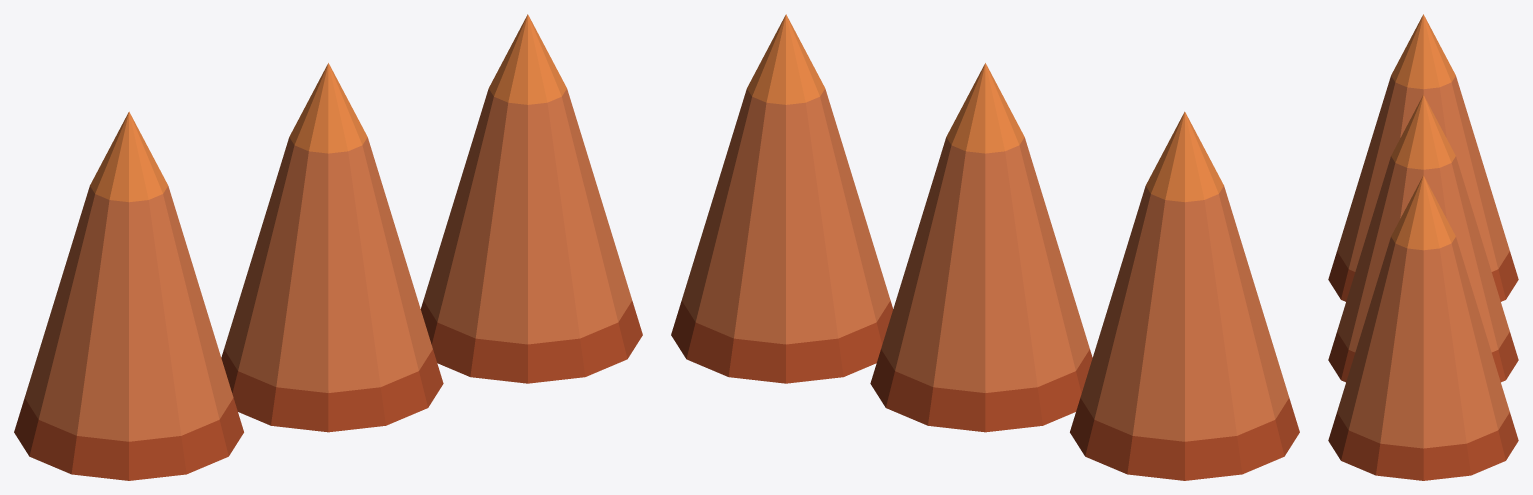
The model's file is ESPINHOS PACK 3  1.fbx.
3 renders of one model, left to right at view 1: azimuth 30°, elevation 25°; view 2: azimuth 150°, elevation 25°; view 3: azimuth 270°, elevation 25°, orthographic. The views are drawn at different scales.
Parts seen in each view (by area): view 1: Circle; view 2: Circle; view 3: Circle.
Part boxes in pixels (<box>): Circle: <box>14,14,642,480</box>; Circle: <box>671,14,1299,480</box>; Circle: <box>1328,14,1518,480</box>.
Size of the model in its own units: 113 by 58.05 by 37.73.
1 material, 1 textured.
